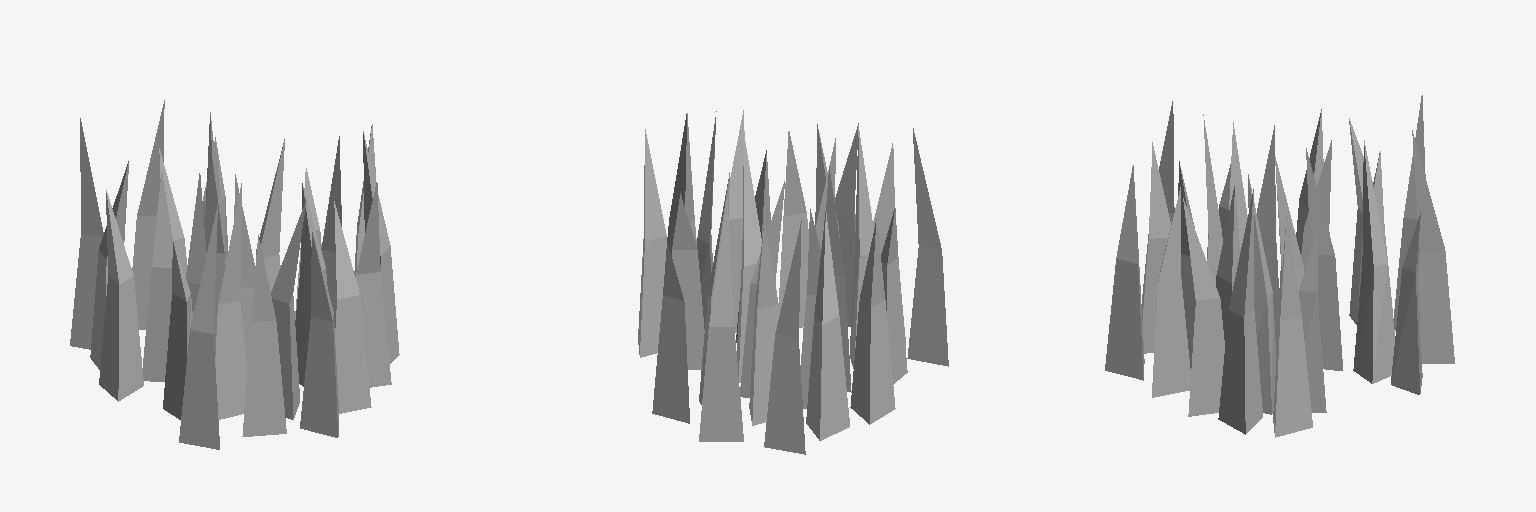
File: grass.obj
3 renders of one model, left to right at view 1: azimuth 30°, elevation 25°; view 2: azimuth 150°, elevation 25°; view 3: azimuth 270°, elevation 25°, orthographic.
Parts seen in each view (by area): view 1: Cone.025; view 2: Cone.025; view 3: Cone.025.
Boxes of the visible parts, x1=… form: Cone.025: x1=70, y1=100, x2=399, y2=449; Cone.025: x1=638, y1=110, x2=948, y2=454; Cone.025: x1=1105, y1=95, x2=1454, y2=437.
Size of the model in its own units: 0.0176 by 0.0149 by 0.0202.